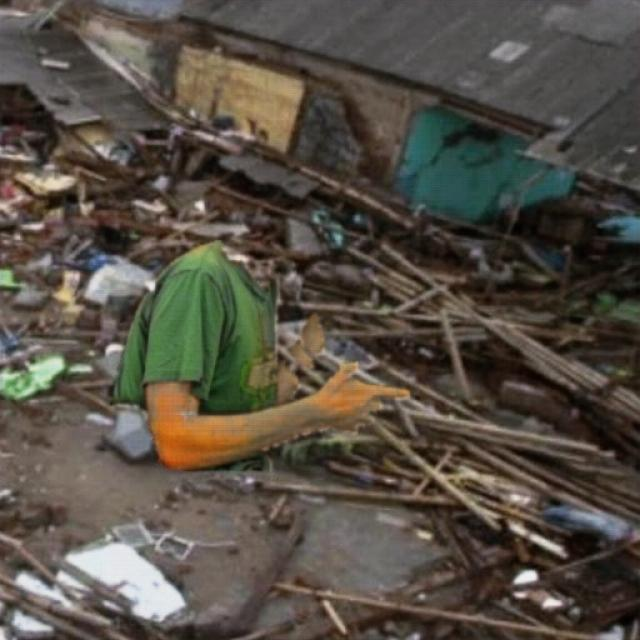Person in Rubble: (110, 240, 409, 470)
